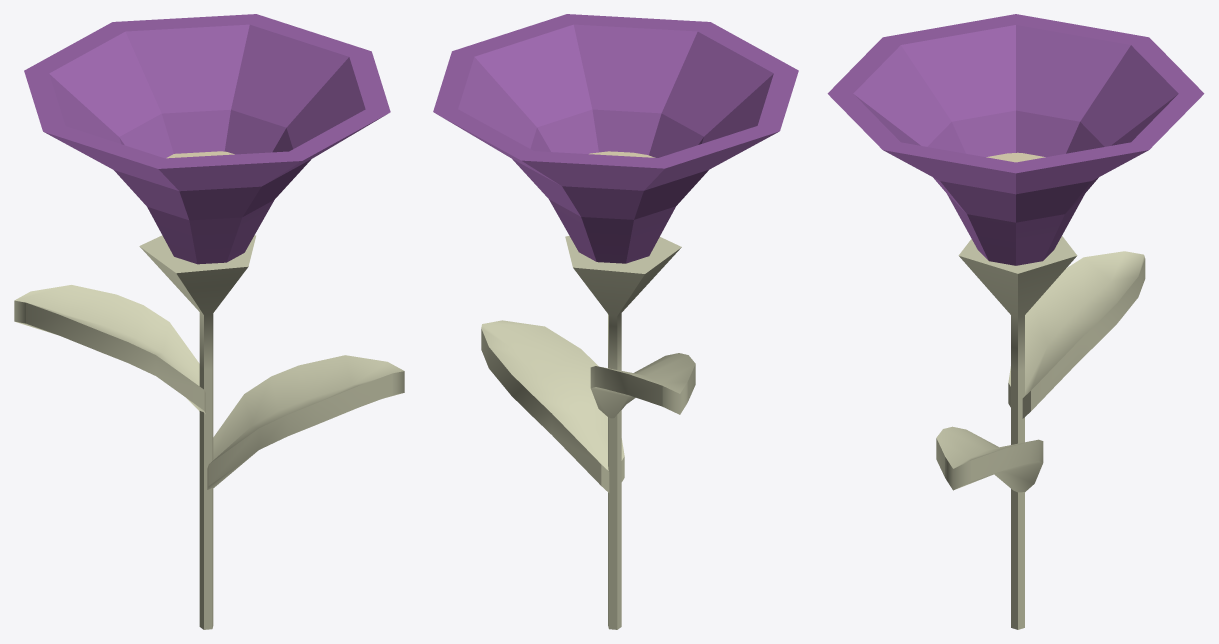
Rendered from flower03.fbx.
The picture shows the model from 3 angles, left to right: view 1: azimuth 30°, elevation 25°; view 2: azimuth 150°, elevation 25°; view 3: azimuth 270°, elevation 25°; orthographic projection.
Parts seen in each view (by area): view 1: pPipe16, pCube8, pCube9, pPipe15; view 2: pPipe16, pCube8, pPipe15, pCube9; view 3: pPipe16, pCube9, pPipe15, pCube8.
Part boxes in pixels (x1=…): pPipe16: x1=24, y1=14, x2=390, y2=264; pCube8: x1=207, y1=355, x2=404, y2=489; pCube9: x1=14, y1=285, x2=205, y2=413; pPipe15: x1=139, y1=235, x2=255, y2=629; pPipe16: x1=433, y1=14, x2=798, y2=263; pCube8: x1=481, y1=320, x2=624, y2=492; pPipe15: x1=565, y1=235, x2=681, y2=629; pCube9: x1=590, y1=353, x2=695, y2=418; pPipe16: x1=827, y1=14, x2=1204, y2=265; pCube9: x1=1008, y1=251, x2=1145, y2=418; pPipe15: x1=958, y1=236, x2=1077, y2=629; pCube8: x1=936, y1=426, x2=1043, y2=492.
Bounding box in the file's own units: 7.17 × 11.13 × 7.14.
